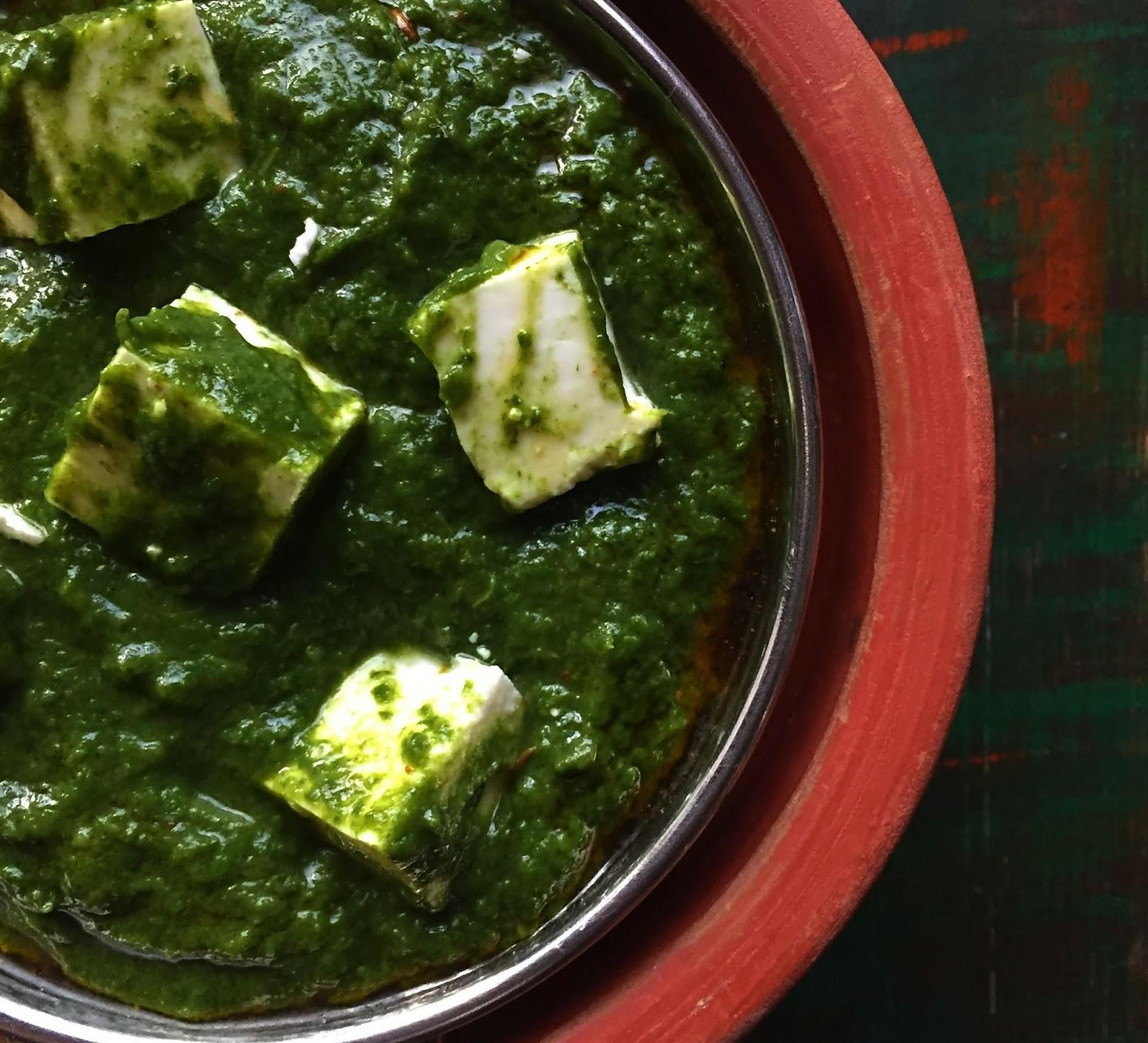PalakPaneer: (0, 0, 792, 1021)
